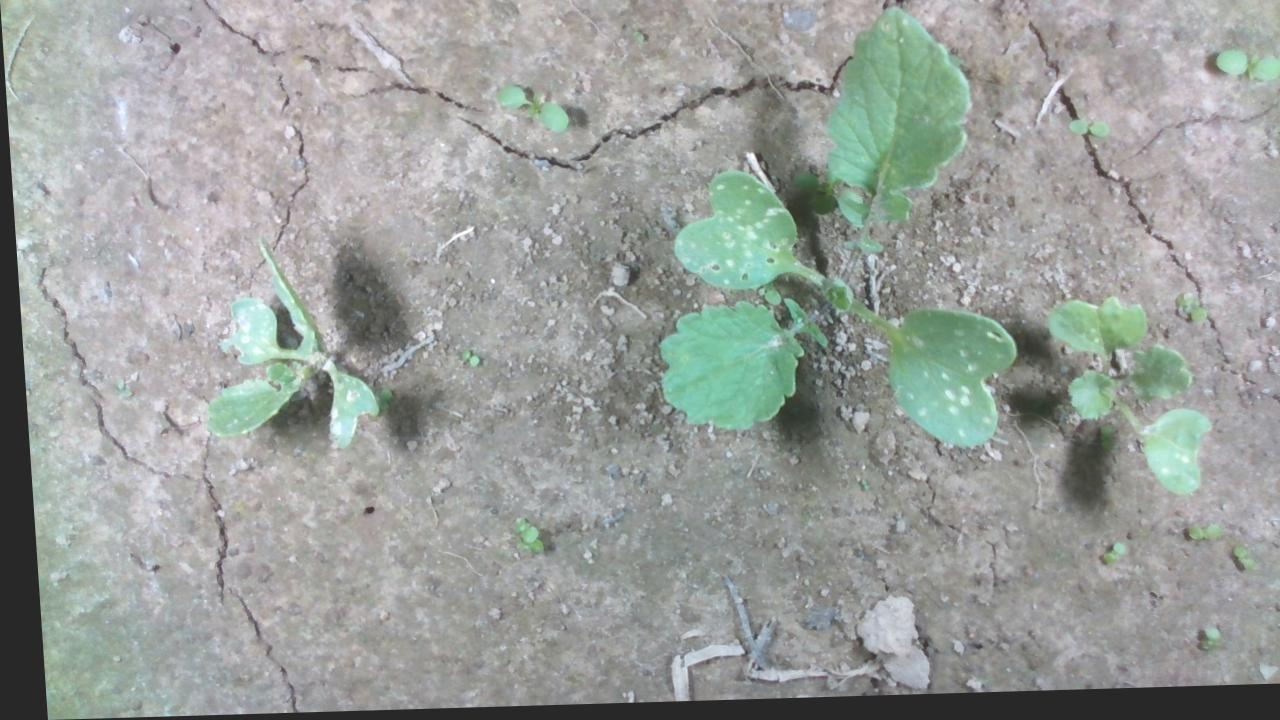weed: (490, 77, 576, 142), (497, 509, 544, 560), (1064, 111, 1108, 152), (1166, 294, 1200, 336), (1178, 522, 1208, 562), (1221, 543, 1251, 580), (1187, 625, 1219, 657), (444, 345, 480, 369), (1090, 540, 1116, 569)
